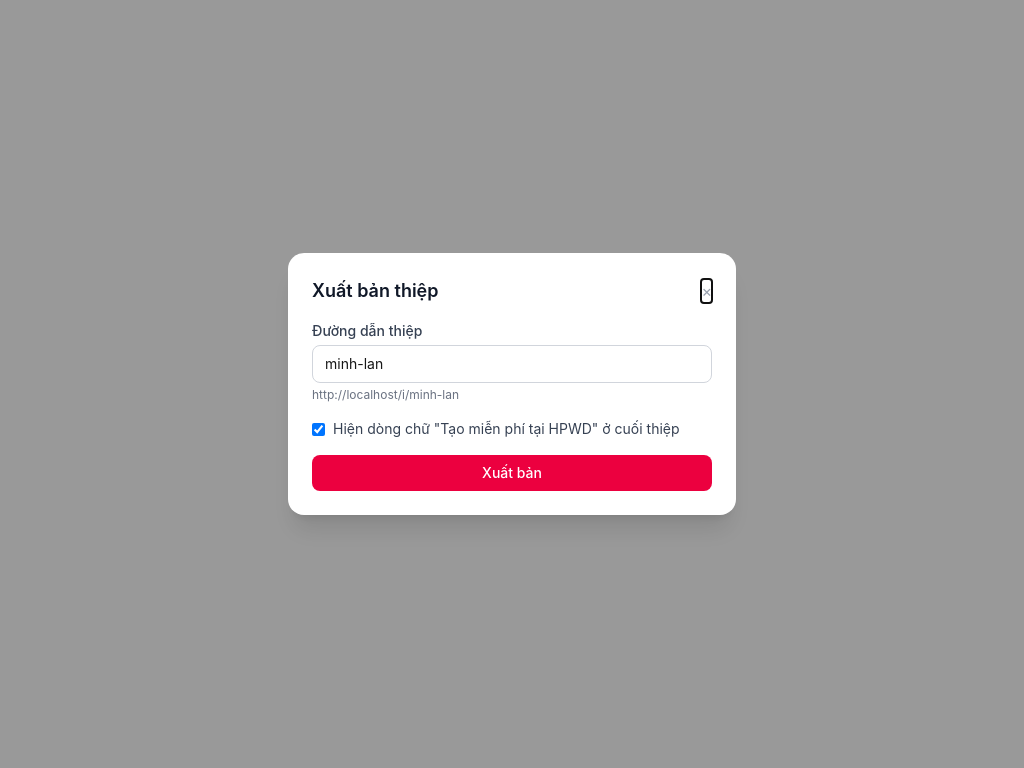
Test: PublishDialog › flushes the pending autosave before publishing (C2) › refuses to publish when flush() itself fails (network), rather than publishing a possibly-stale version
The image size is (1024, 768).
What coordinates should you click on to do the following:
click the button "Xuất bản"
I would click on:
 (512, 473)
Its box is [312,455,712,491].
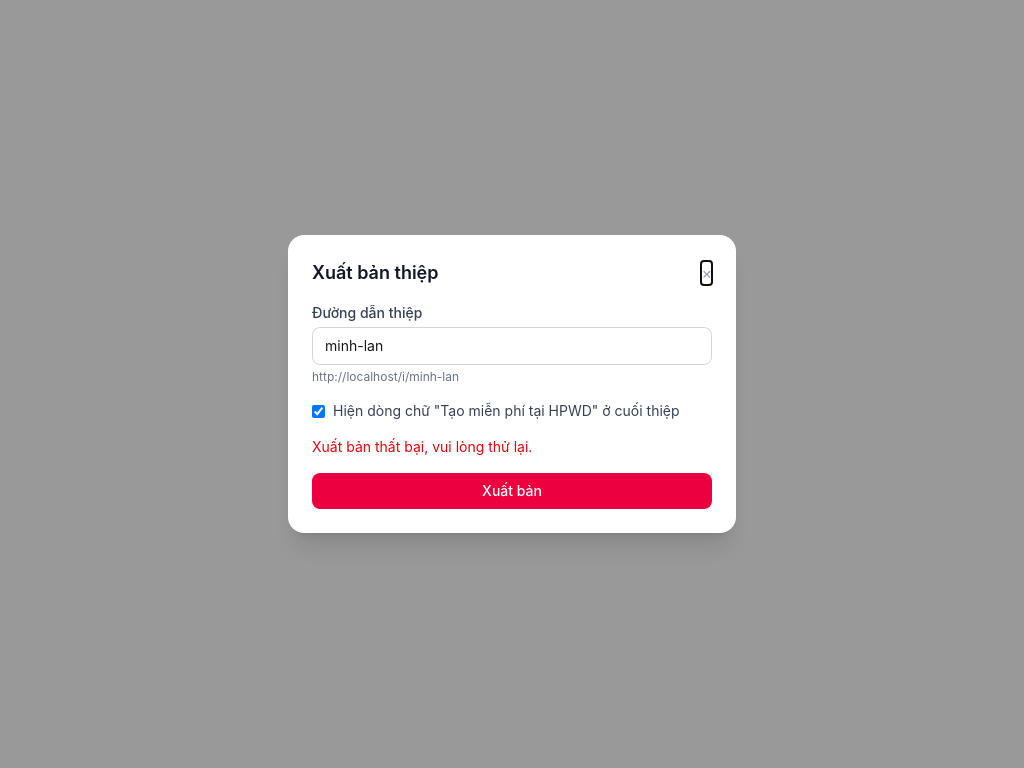
Expected: the text "Xuất bản thất bại, vui lòng thử lại." is shown, [312,438,532,455]
